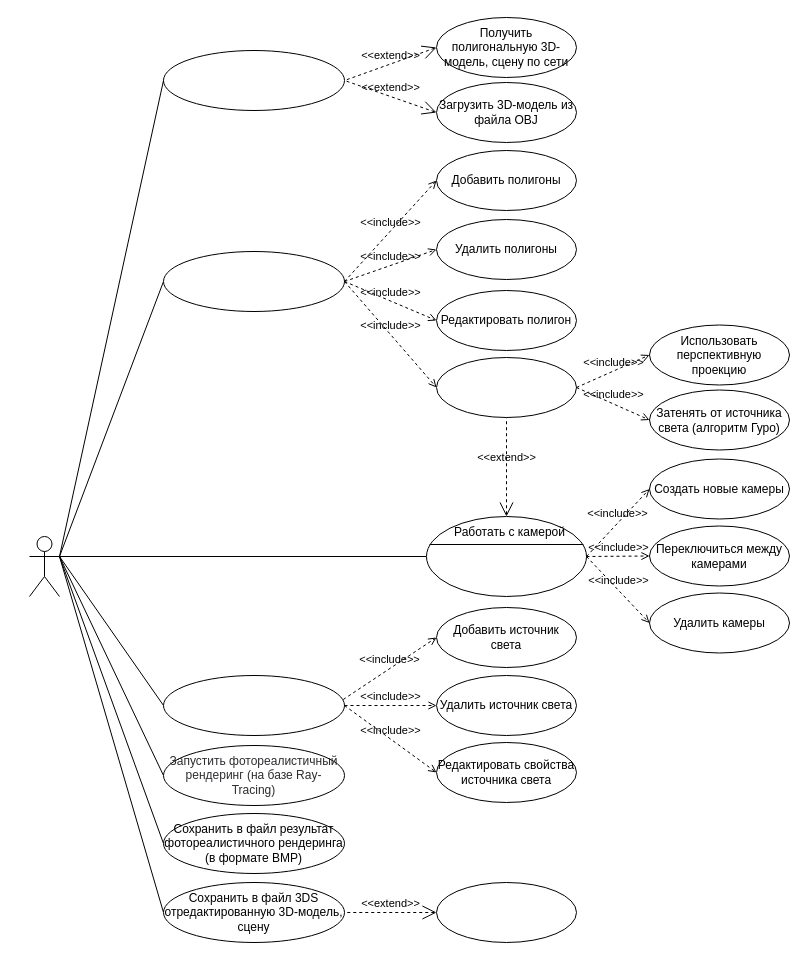
The diagram is 807 pixels wide and 960 high, and some of its shapes have lost their labels. Each missing label, with the box of its shape:
extension points: перемещать камеру, вращать камеру: (426, 516, 586, 596)
Дизайнер: (28, 536, 60, 596)
Загрузить полигональную 3D-модель, сцену из файла 3DS: (162, 50, 344, 110)
Просмотреть 3D модель, сцену: (436, 356, 576, 418)
Редактировать источник света в текущей сцене: (162, 674, 344, 736)
Редактировать полигональную сетку 3D-модели: (162, 250, 344, 312)
Сохранить 3D-модель в файл OBJ: (436, 882, 576, 942)
